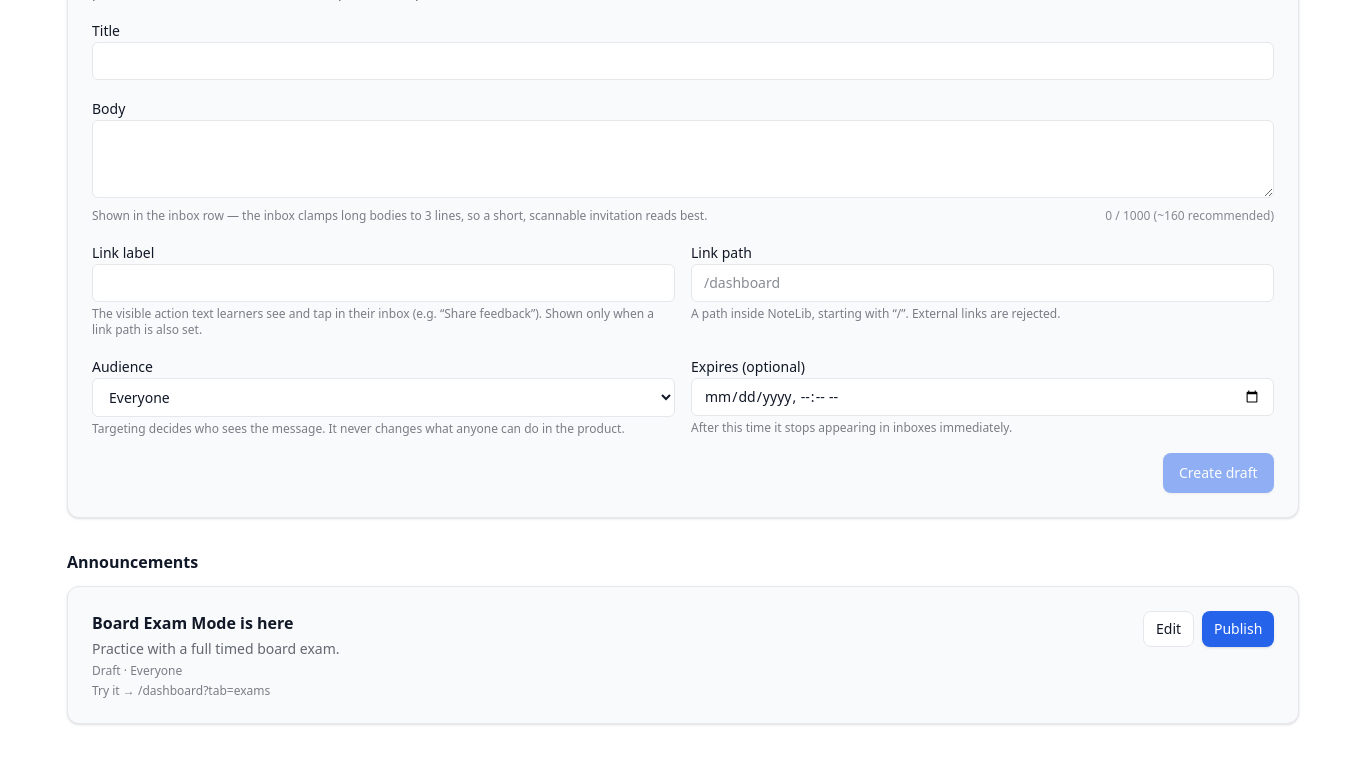
AdminAnnouncementsPage publish feedback › says accepted delivery is running in the background
(page scrolled)
Expected: the text "Board Exam Mode is here" is shown, [92,612,293,634]
Step 1. Click the button "Publish" → (1238, 628), box [1202,610,1274,646]
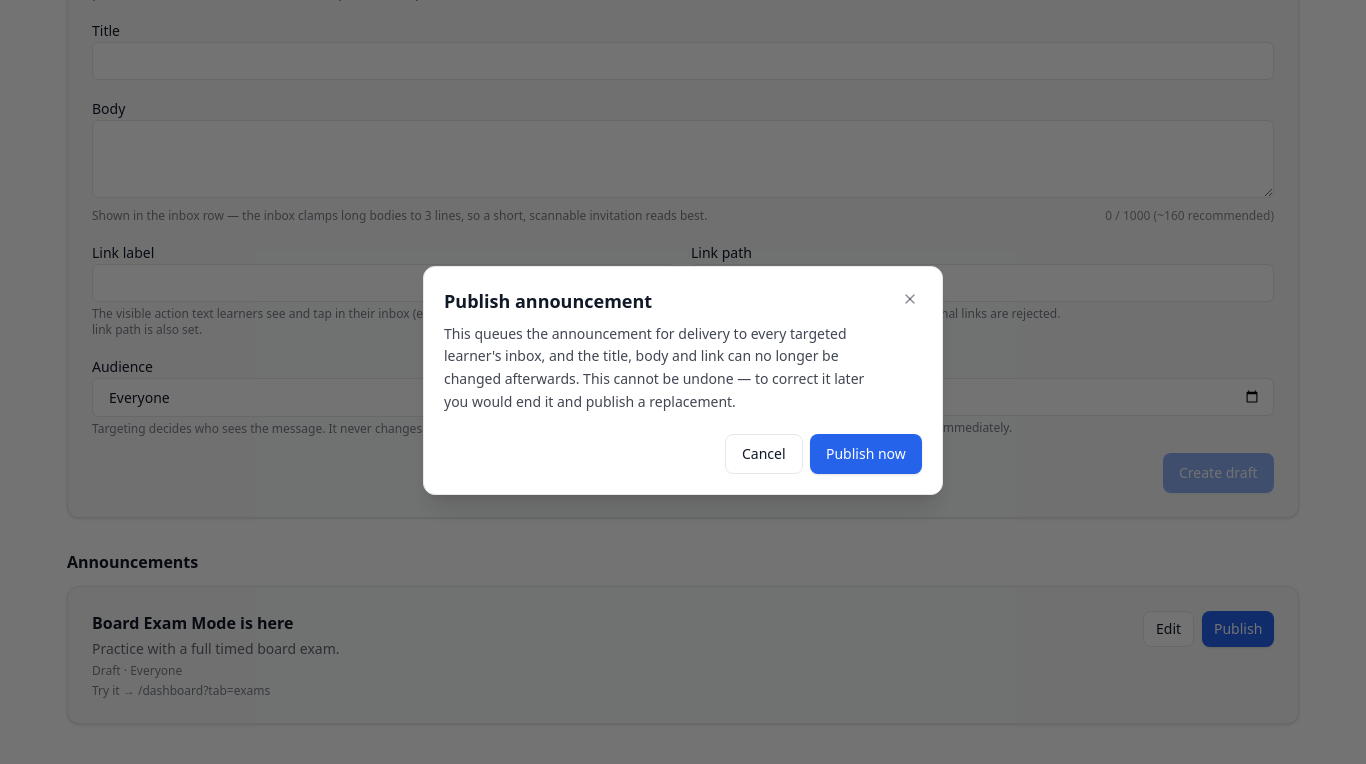
Step 2. Click the button "Publish now" → (866, 454), box [810,434,922,474]
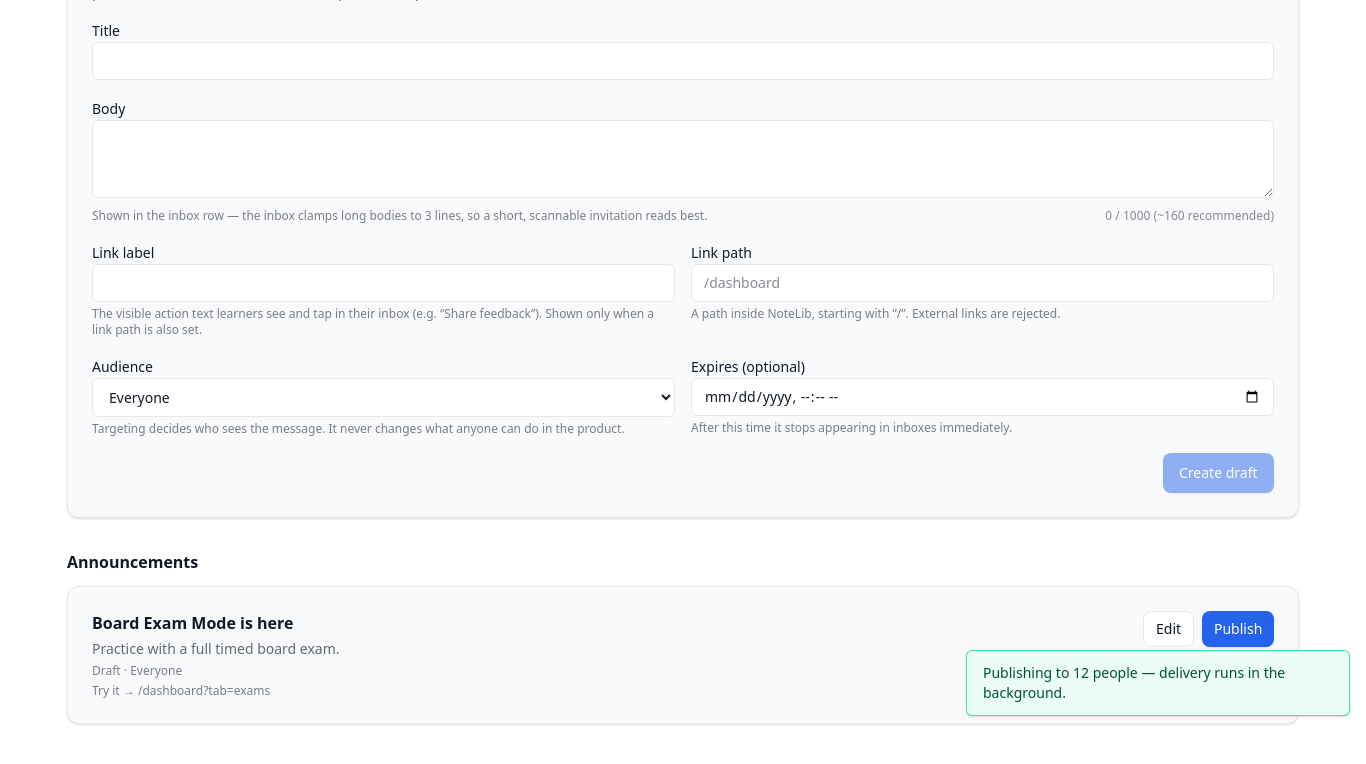
Result: the text "Publishing to 12 people — delivery runs in the background." is shown at [966,650,1350,716]
